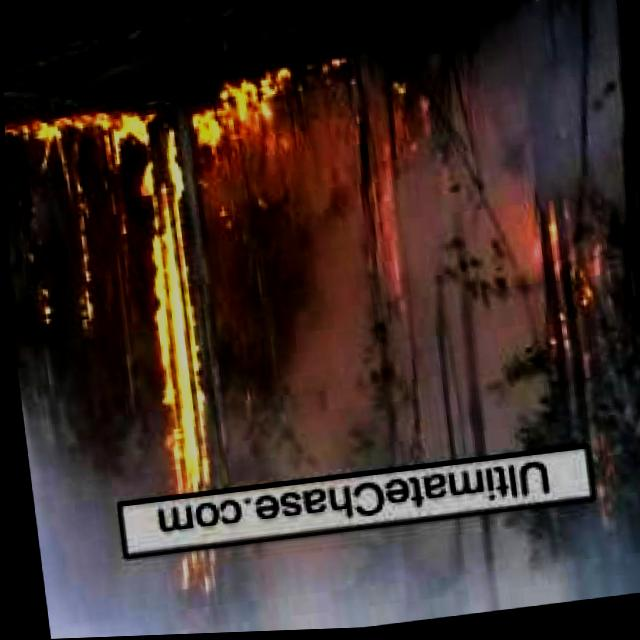Fire: (126, 103, 208, 497), (3, 108, 90, 326), (190, 63, 293, 155), (527, 207, 600, 330)
Smoke: (240, 17, 550, 473), (35, 498, 640, 639), (494, 0, 639, 212)
